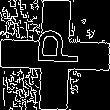P_W: (29, 35, 81, 75)
